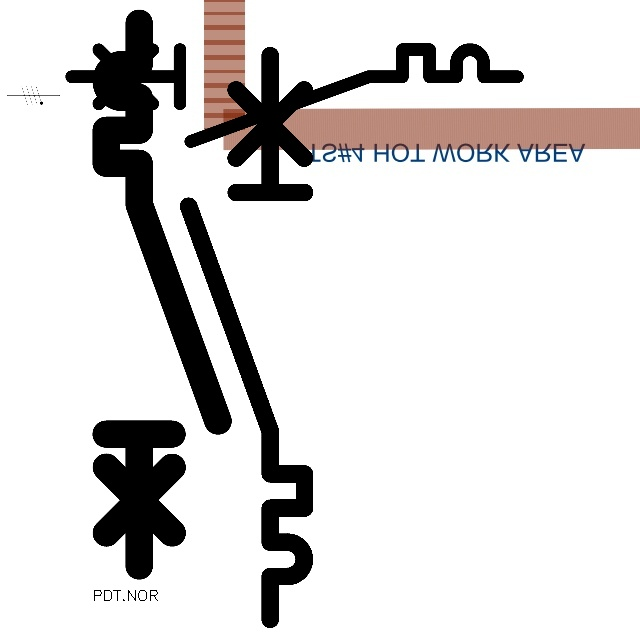interruptor_termomagnetico: (174, 41, 319, 634), (92, 9, 231, 580), (60, 38, 529, 153)
